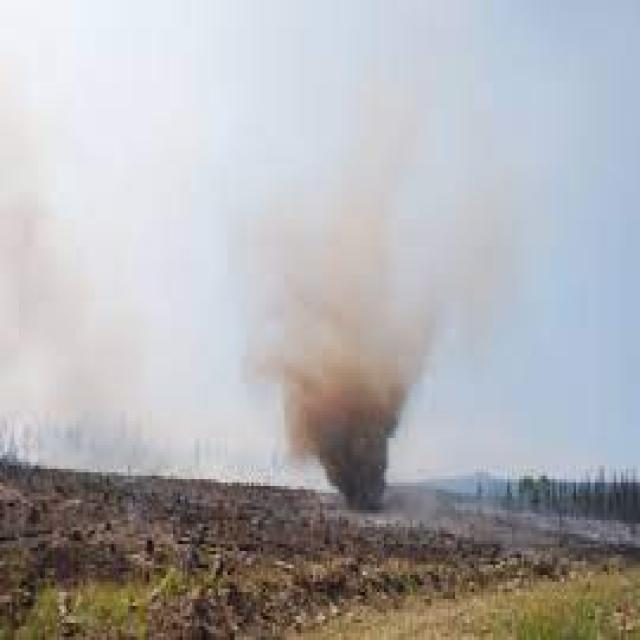Smoke: (289, 130, 419, 530)
